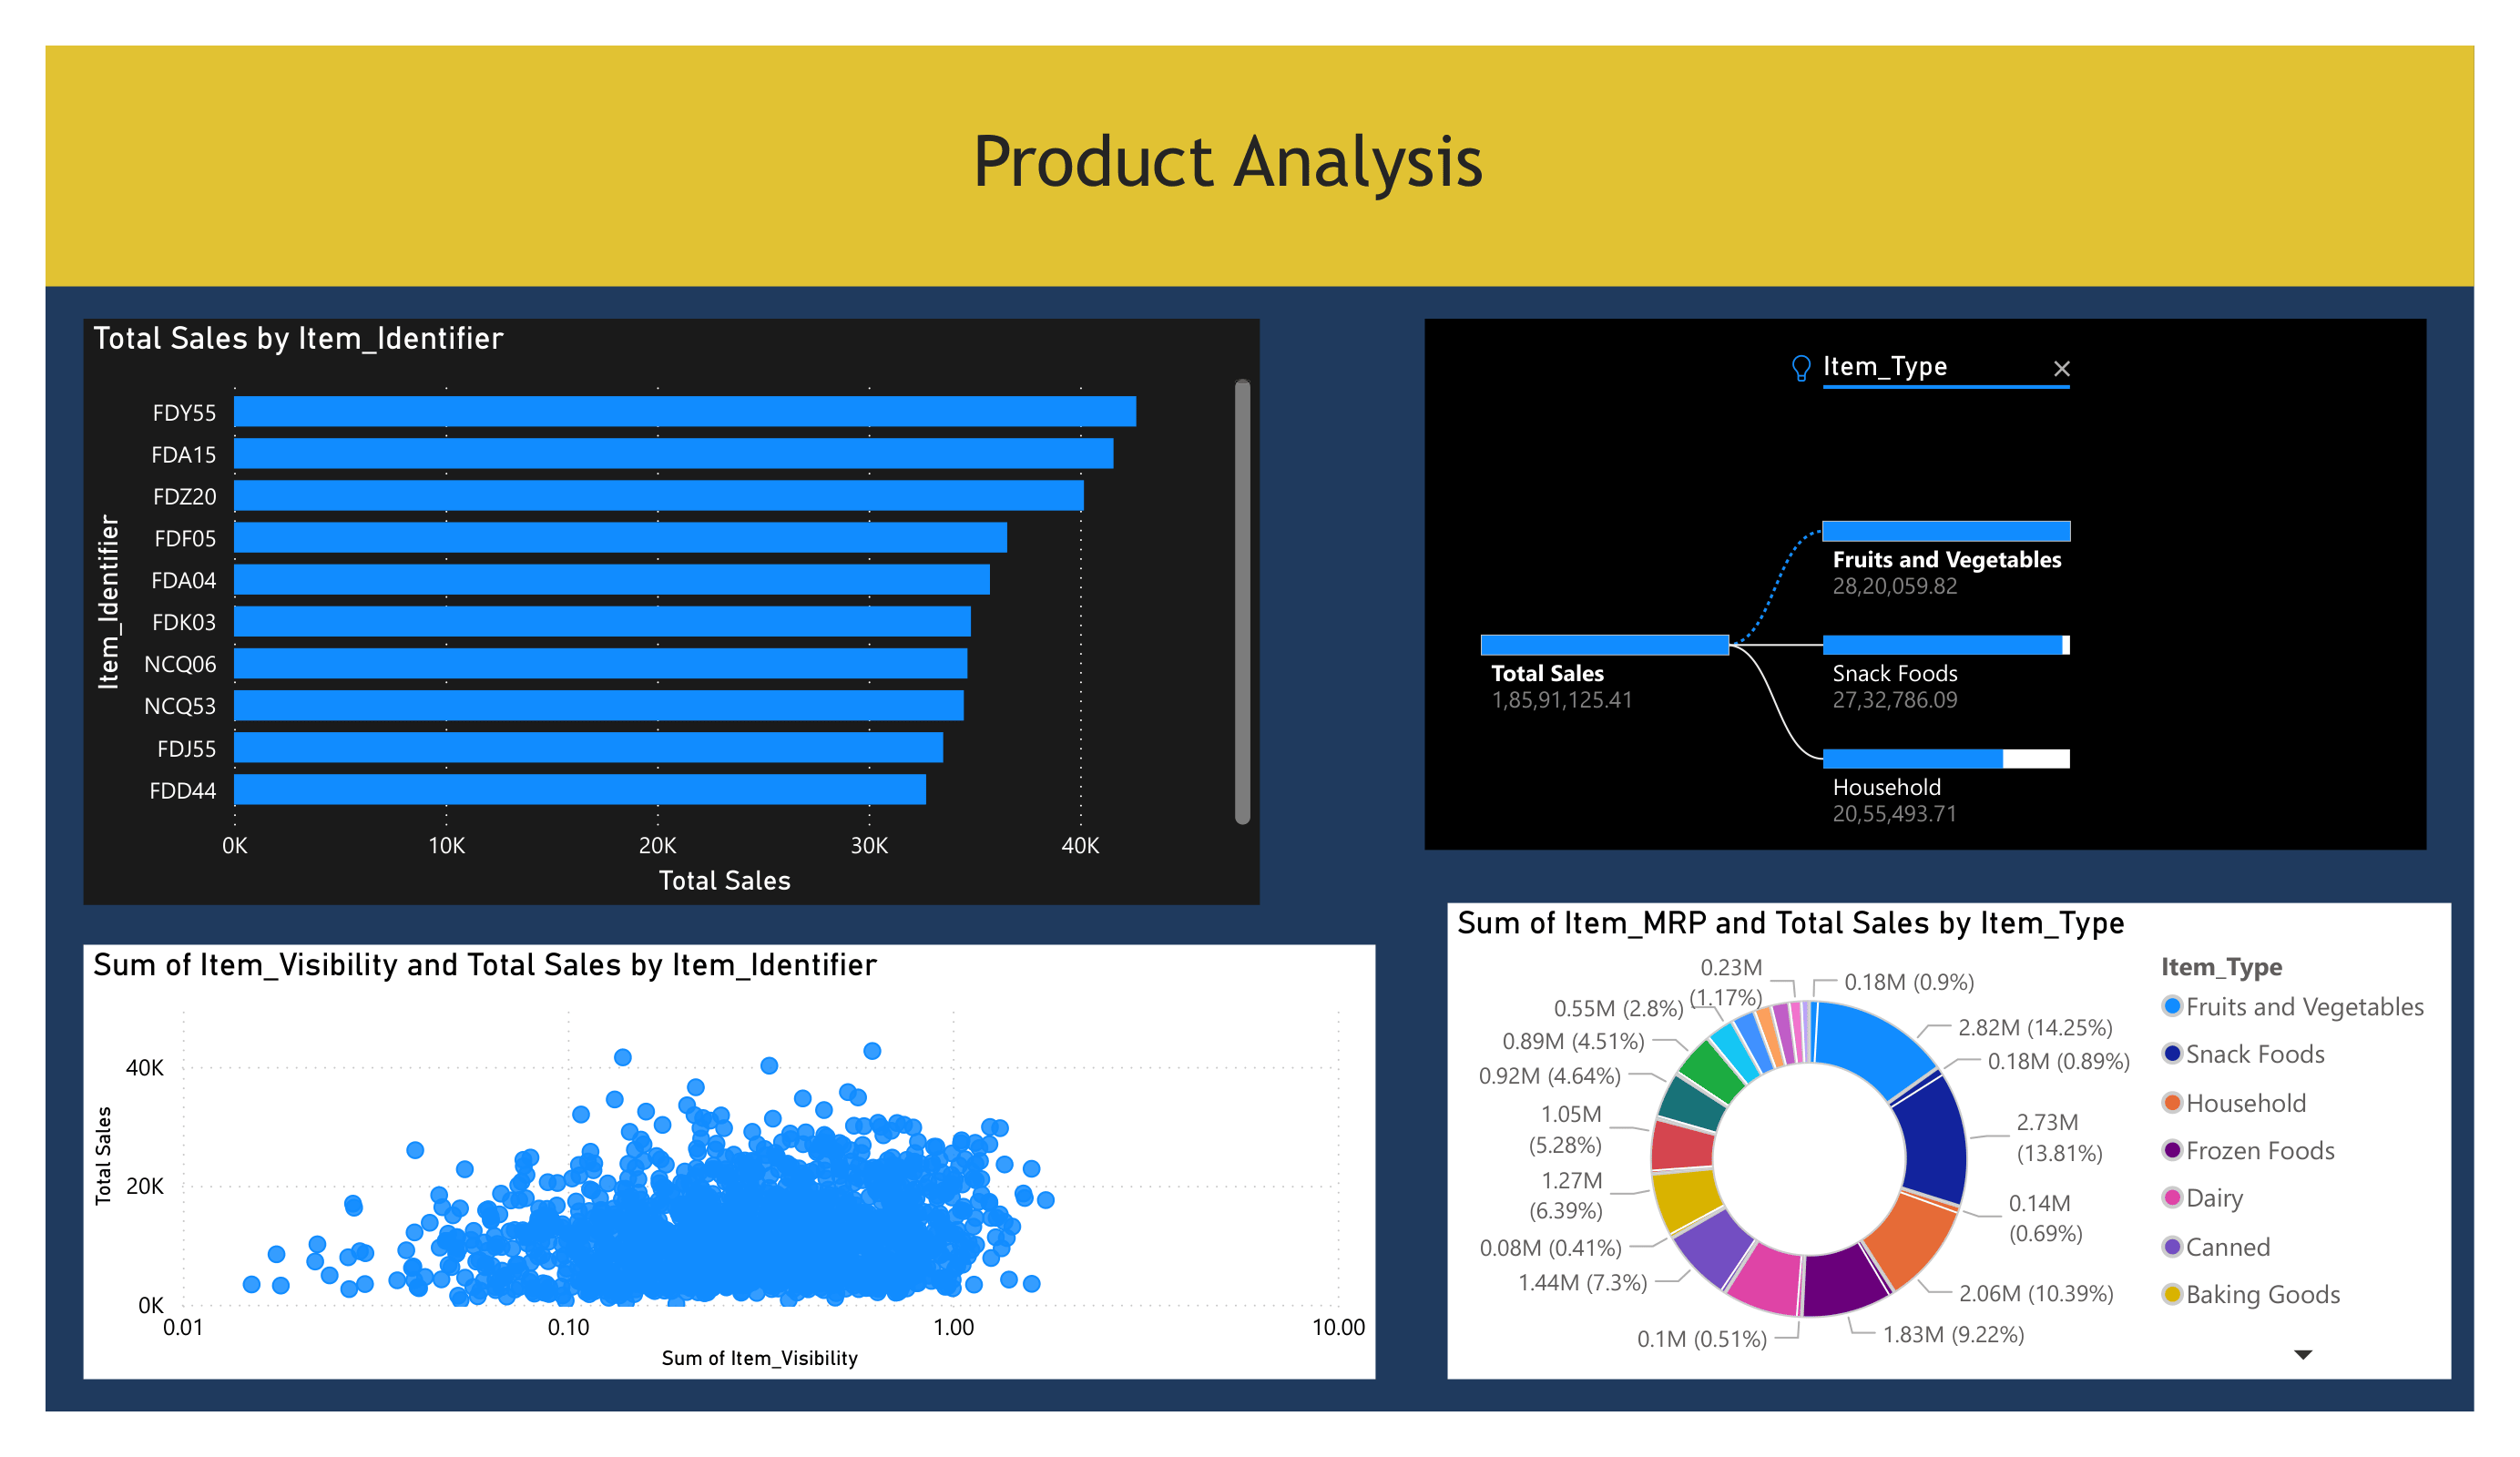

What the dashboard file says about the page in this screenshot:
{"tool":"powerbi","page":{"name":"Page 2","canvas":[1280,720],"ordinal":1},"visuals":[{"type":"textbox","box":[0,0,1279.8,126.6],"z":0},{"type":"clusteredBarChart","fields":{"Category":["Tableau BlinkIT Grocery Project.Item_Identifier"],"Y":["Tableau BlinkIT Grocery Project.Total Sales"]},"box":[20.2,143.6,620.2,309.6],"z":1},{"type":"scatterChart","fields":{"X":["Sum(Tableau BlinkIT Grocery Project.Item_Visibility)"],"Y":["Tableau BlinkIT Grocery Project.Total Sales"],"Category":["Tableau BlinkIT Grocery Project.Item_Identifier"]},"box":[20.2,474.5,680.9,228.7],"z":2},{"type":"donutChart","fields":{"Category":["Tableau BlinkIT Grocery Project.Item_Type"],"Y":["Sum(Tableau BlinkIT Grocery Project.Item_MRP)","Tableau BlinkIT Grocery Project.Total Sales"]},"box":[739.4,452.1,528.7,251.1],"z":3},{"type":"decompositionTreeVisual","fields":{"ExplainBy":["Tableau BlinkIT Grocery Project.Item_Type"],"Analyze":["Tableau BlinkIT Grocery Project.Total Sales"]},"box":[726.6,143.6,528.7,280.9],"z":4}]}

Visuals, with their boxes in screenshot pixels (x1, y1, x2, y2):
textbox: (0,39,2484,285)
clusteredBarChart - Tableau BlinkIT Grocery Project.Item_Identifier x Tableau BlinkIT Grocery Project.Total Sales: (39,318,1243,919)
scatterChart - Sum(Tableau BlinkIT Grocery Project.Item_Visibility) x Tableau BlinkIT Grocery Project.Total Sales: (39,961,1362,1404)
donutChart - Tableau BlinkIT Grocery Project.Item_Type x Sum(Tableau BlinkIT Grocery Project.Item_MRP): (1435,917,2462,1404)
decompositionTreeVisual - Tableau BlinkIT Grocery Project.Item_Type x Tableau BlinkIT Grocery Project.Total Sales: (1411,318,2437,863)
